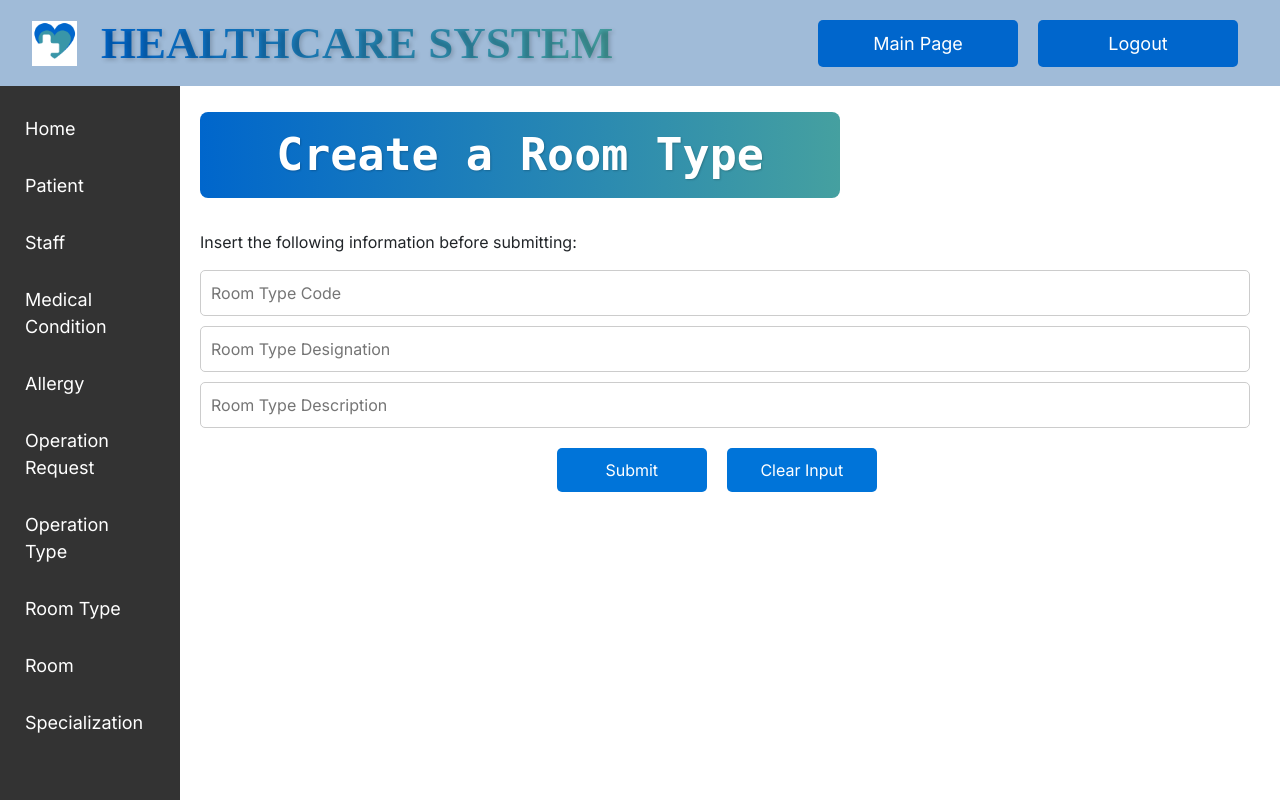
Test: Create Room Type › should create a valid room type
Type "BLCOP-T1" into the field named "code". click: (725, 293)
box: [200, 270, 1250, 316]
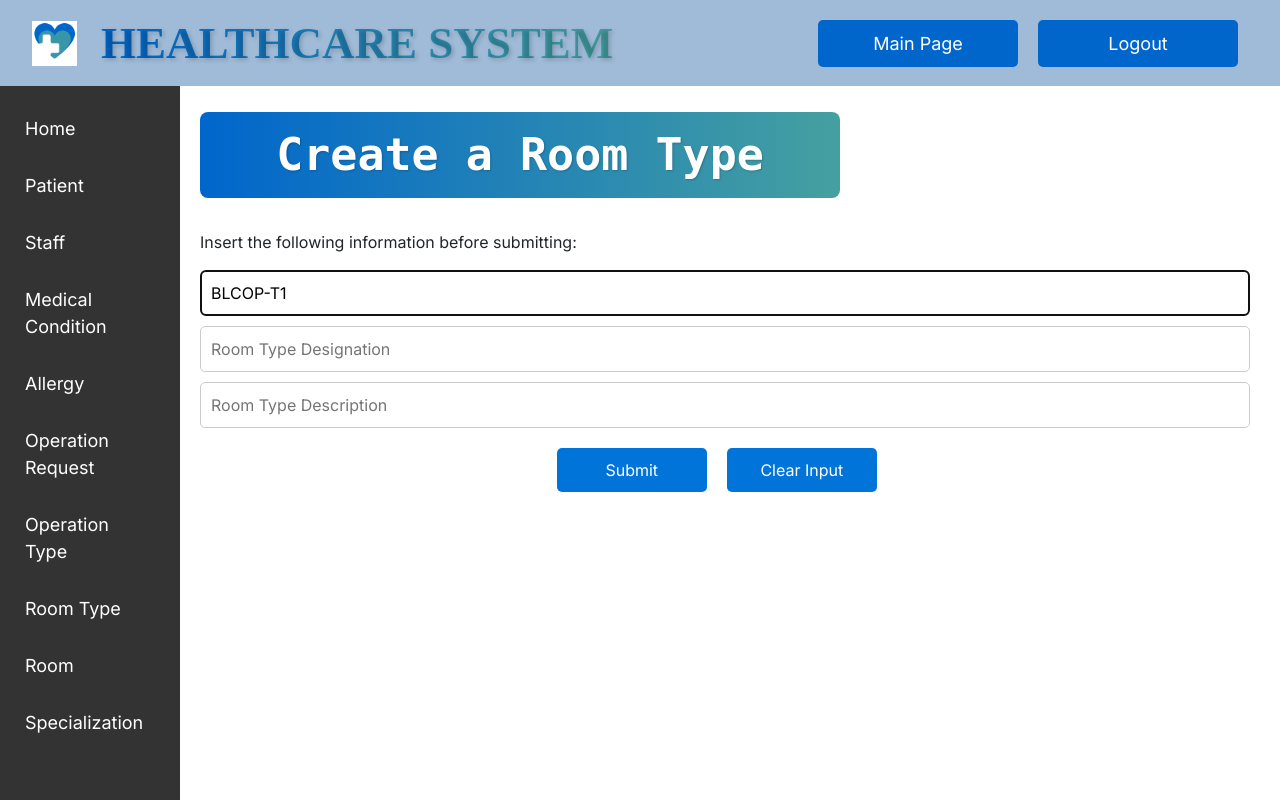
Type "Bloco Operatório" into the field named "designation". click: (725, 349)
box: [200, 326, 1250, 372]
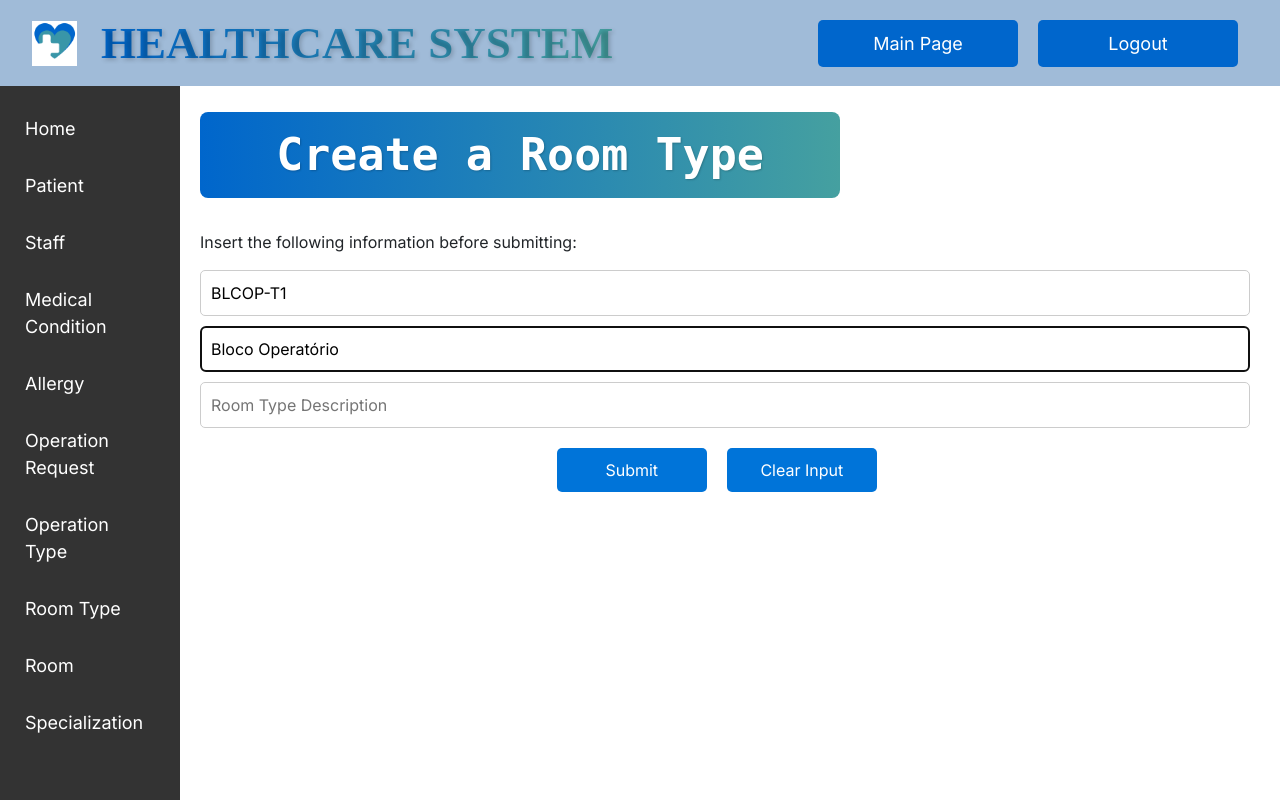
Type "something" into the field named "description". click: (725, 405)
box: [200, 382, 1250, 428]
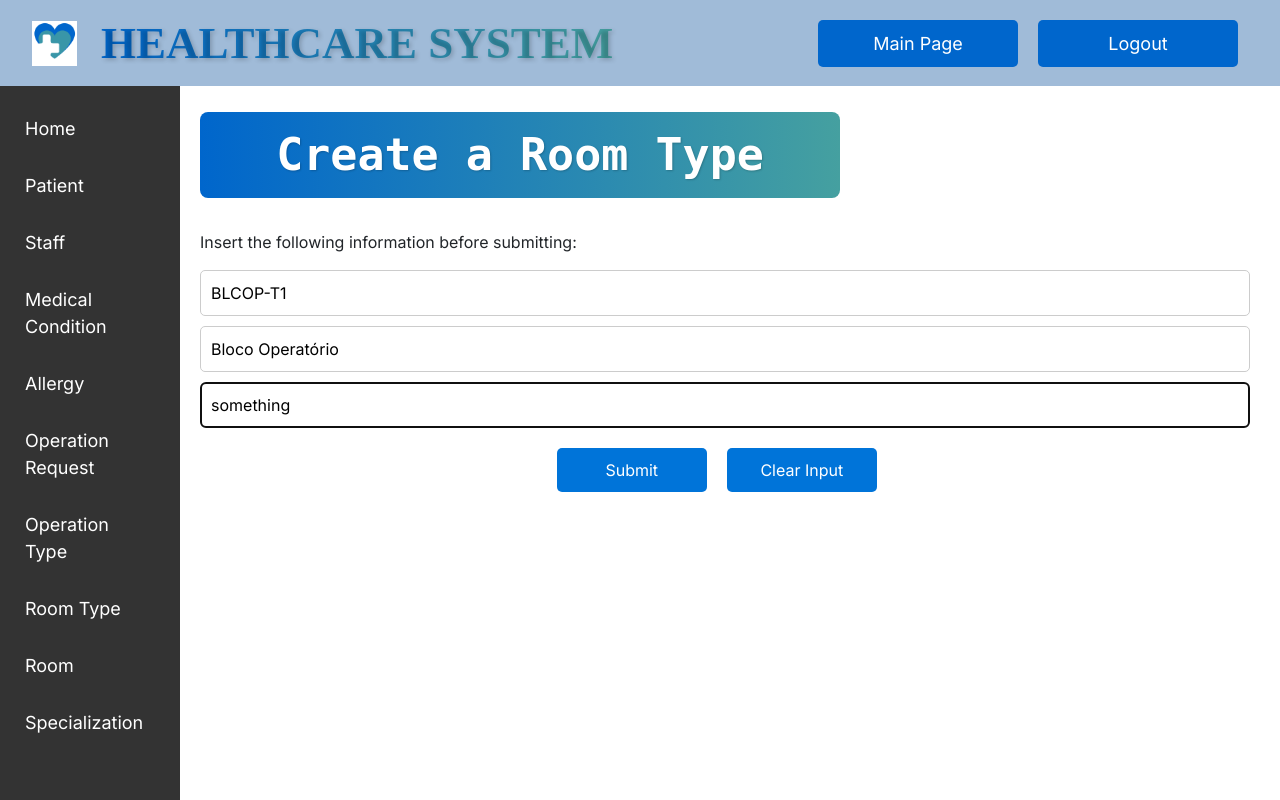
Click the button with class "add-button-submit". click: (632, 470)
box: [557, 448, 707, 492]
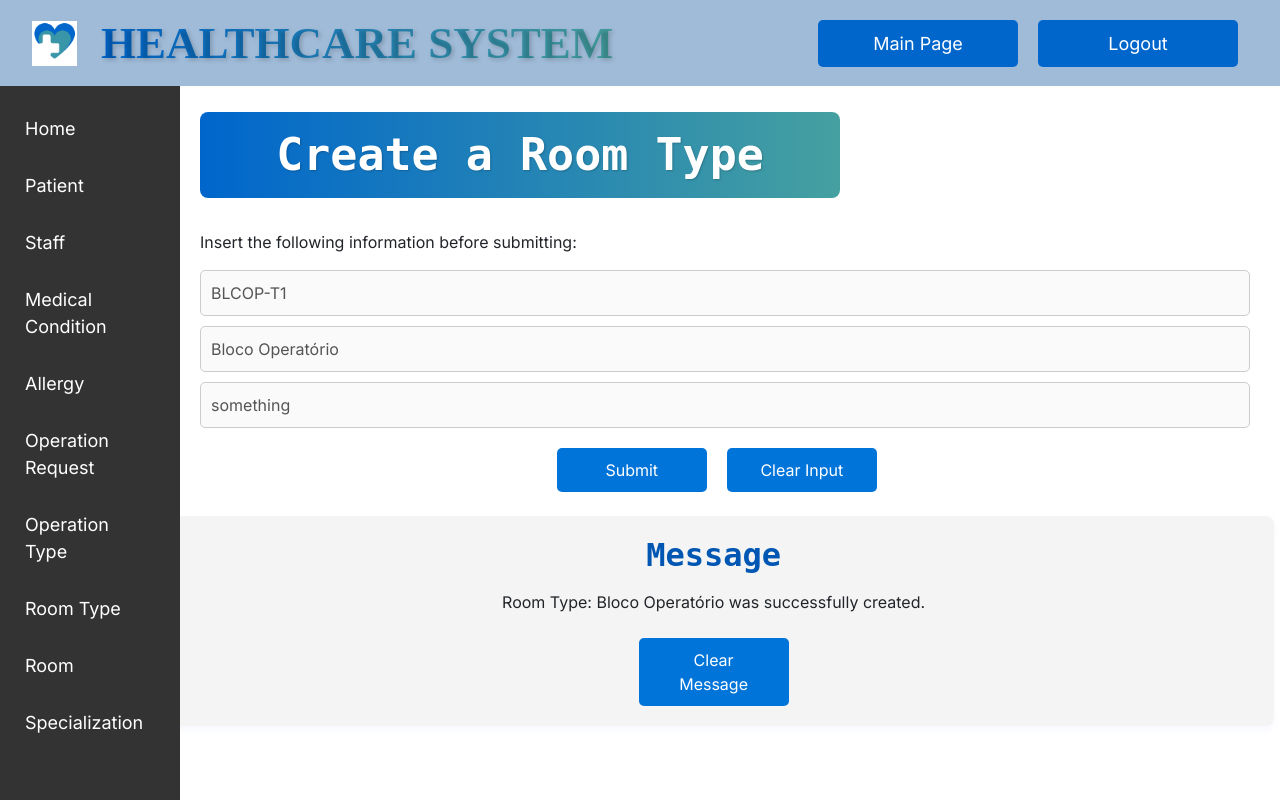
Result: the text "Room Type: Bloco Operatório was successfully created." is shown at [502, 592, 925, 612]
